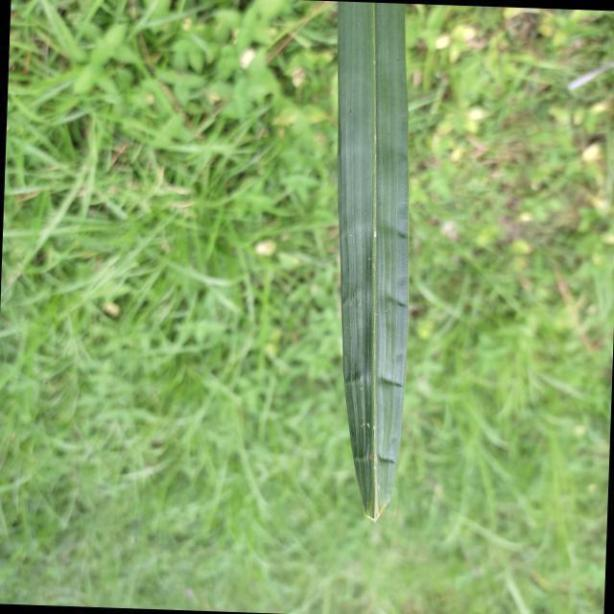Boron: (334, 0, 414, 528)
